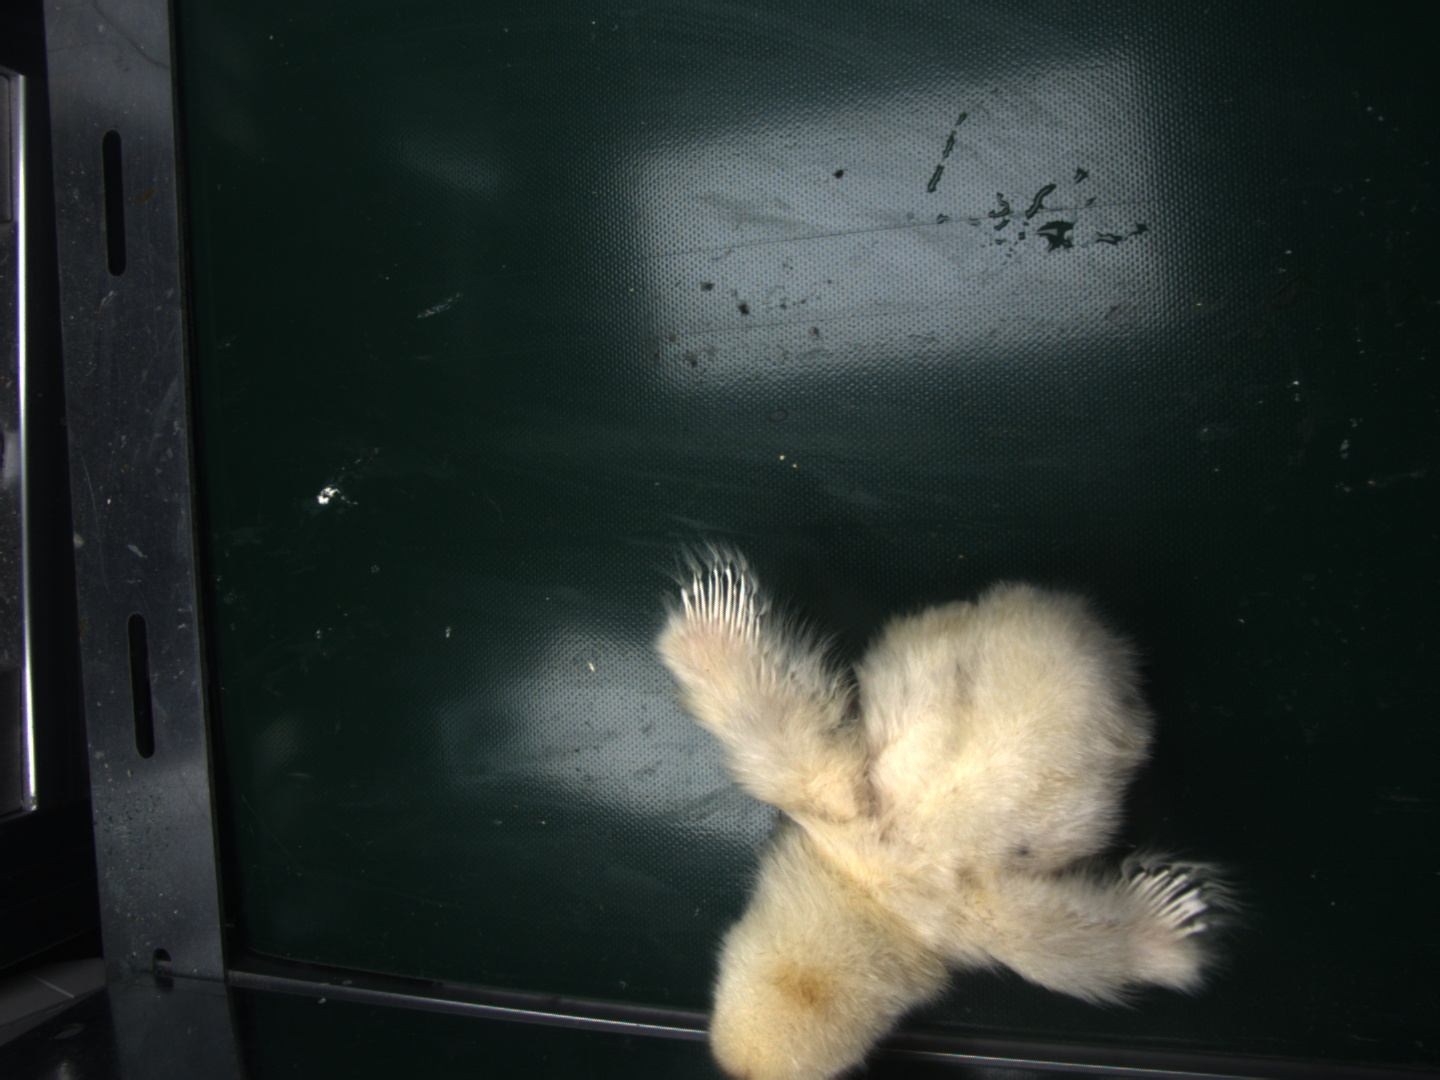male: (679, 562, 765, 641), (1126, 867, 1202, 939)
